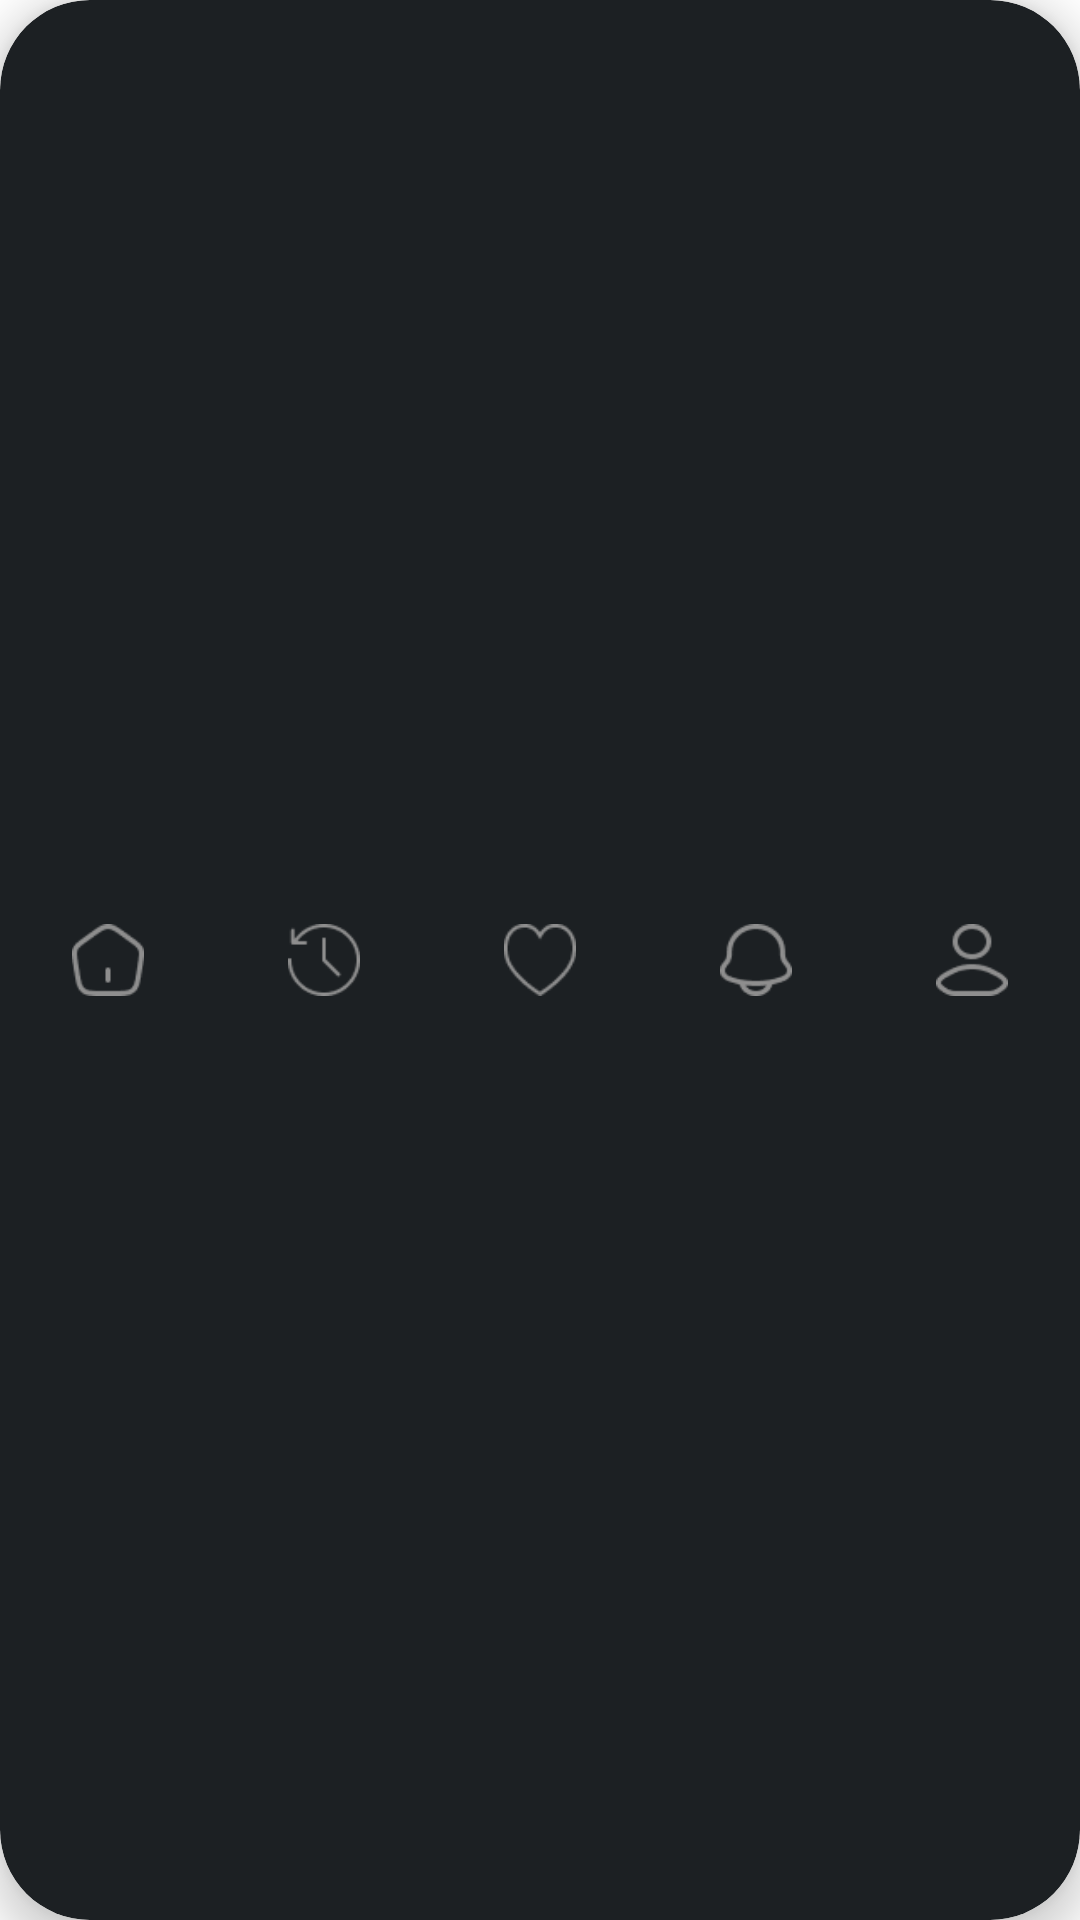

Where to tap for icons on this 1080×1920 app screen, as (x=x, y=y):
favourite heart: (x=540, y=960)
history: (x=324, y=960)
homepage: (x=108, y=960)
notification: (x=756, y=960)
profile settings: (x=972, y=960)
